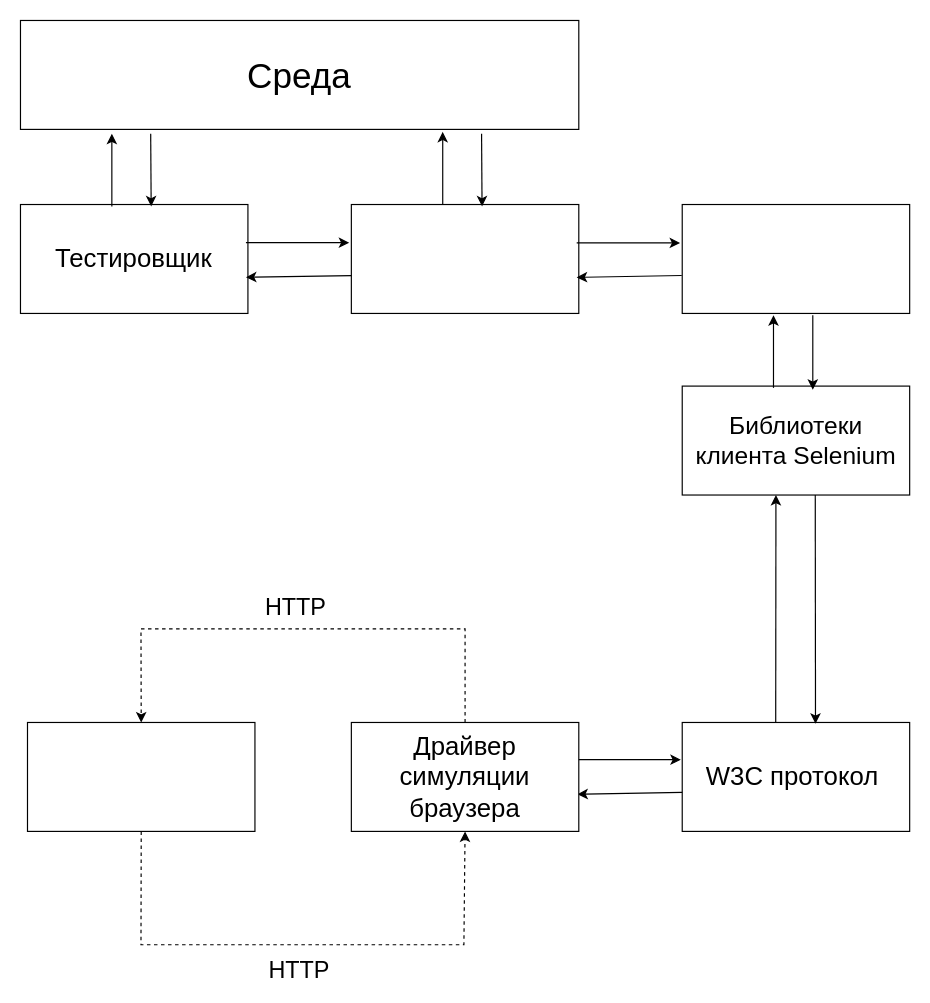
This 930x1003 diagram has some shape labels left out. Here are the shapes that lost their labels. From the top down, the centre of each, then its label:
point 464,258: Фреймворк
point 795,258: Платформа .NET 8
point 140,776: Браузер
